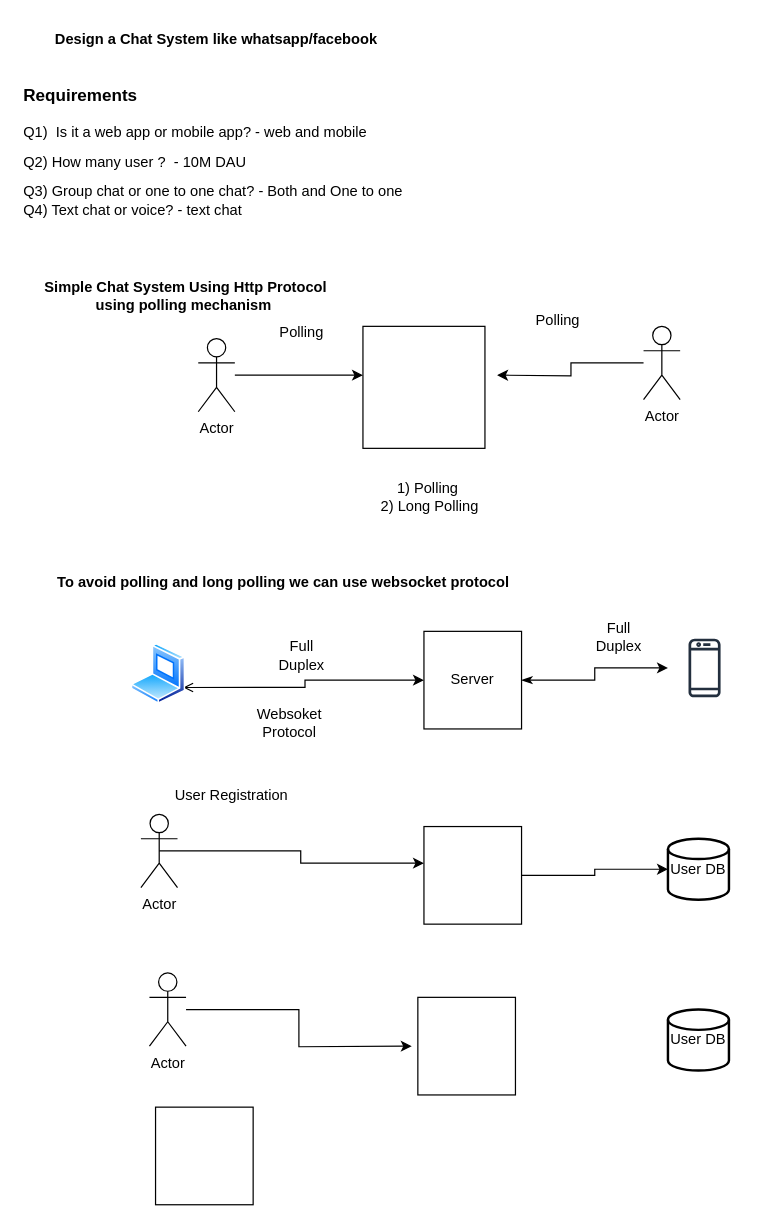
Some shapes in this 766 by 1226 pixel diagram are drawn without their labels. Here are the shapes that lost their labels. From the top down, the centre of each, then its label:
At (x=423, y=386): "Chat Server Receive Message Relay Mesasge".
At (x=704, y=667): "Mobile client".
At (x=472, y=874): "User Registration Service".
At (x=466, y=1045): "Authentication Service".
